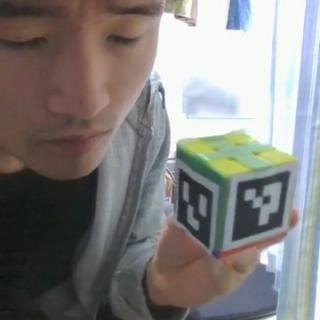armor: (224, 166, 292, 250), (176, 157, 220, 255)
robot: (175, 131, 292, 259)
